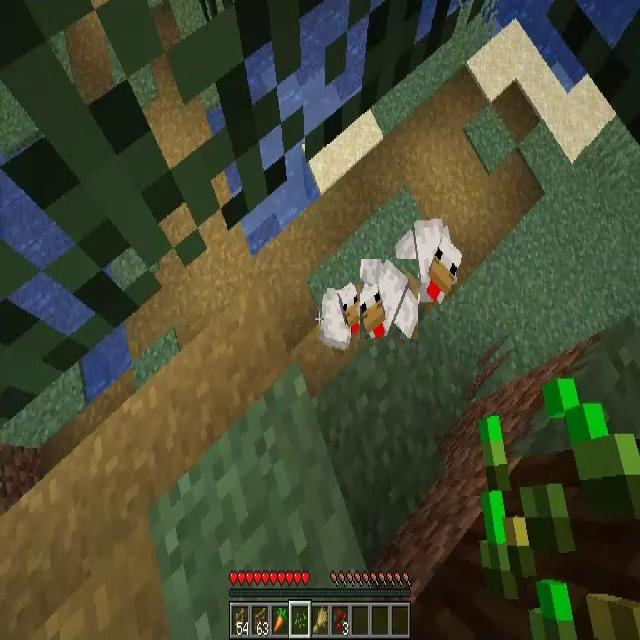duck: (398, 221, 460, 297), (360, 259, 418, 339), (320, 282, 361, 350)
